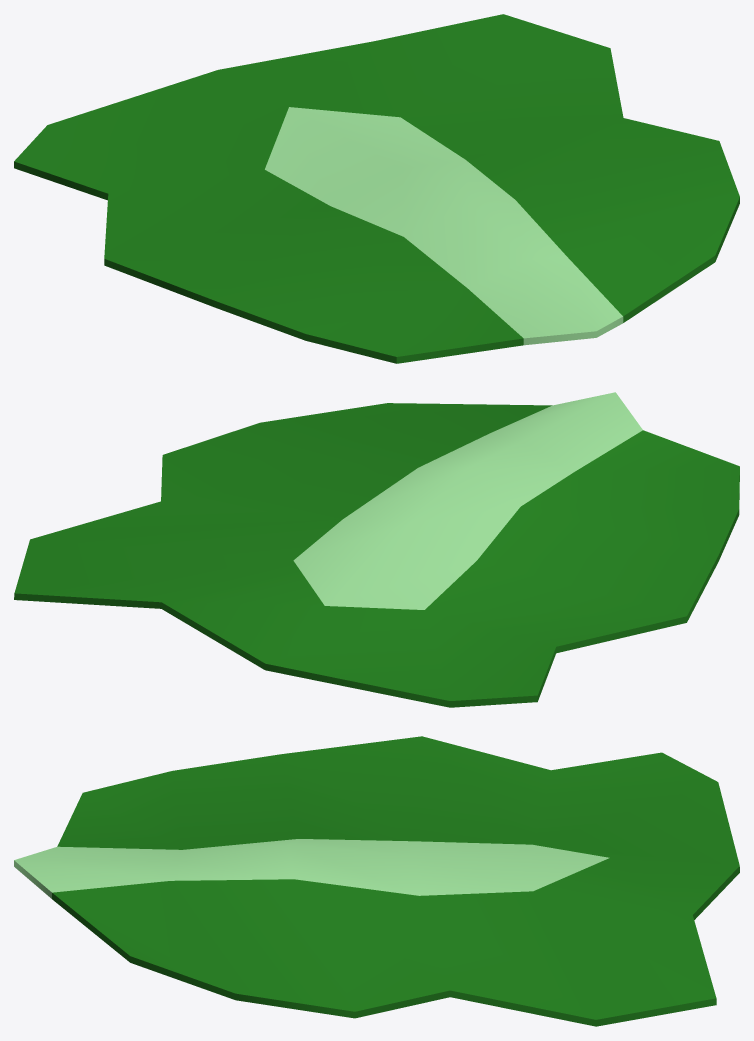
Rendered from Leaf.FBX.
3 renders of one model, top to bottom at view 1: azimuth 30°, elevation 25°; view 2: azimuth 150°, elevation 25°; view 3: azimuth 270°, elevation 25°, orthographic. The views are drawn at different scales.
Visible parts, largest first — view 1: Leaves; view 2: Leaves; view 3: Leaves.
Part boxes in pixels (x1=…): Leaves: x1=14, y1=14, x2=739, y2=363; Leaves: x1=14, y1=392, x2=739, y2=707; Leaves: x1=14, y1=736, x2=739, y2=1026.
Size of the model in its own units: 9.08 by 9.82 by 0.7028.
